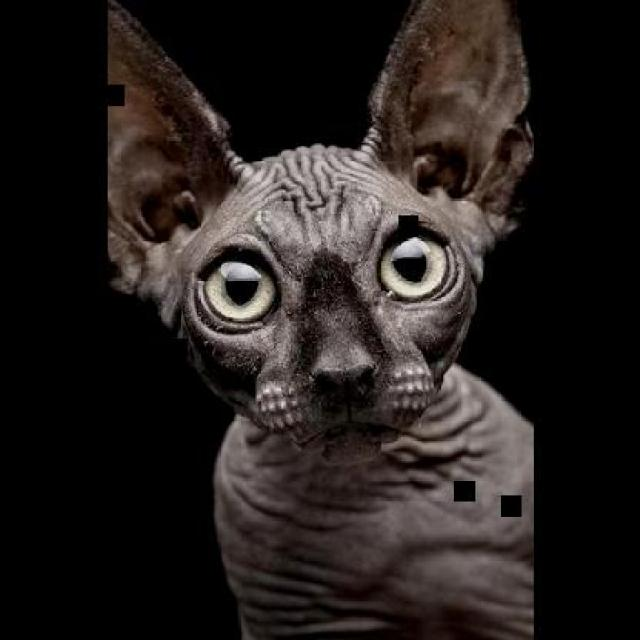unauthorized: (103, 0, 538, 638)
